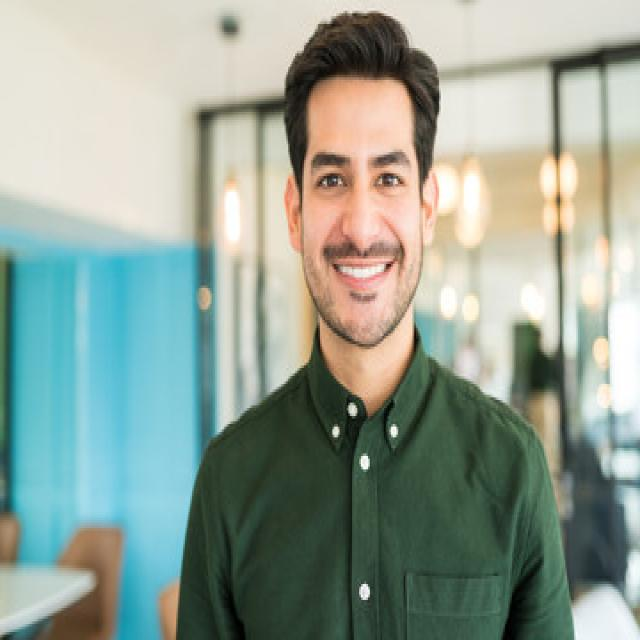Nonhelmet: (278, 6, 444, 350)
